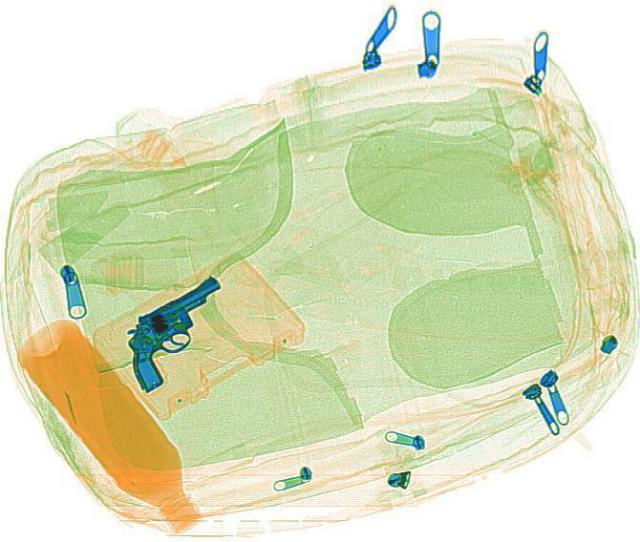Gun: (95, 271, 263, 391)
